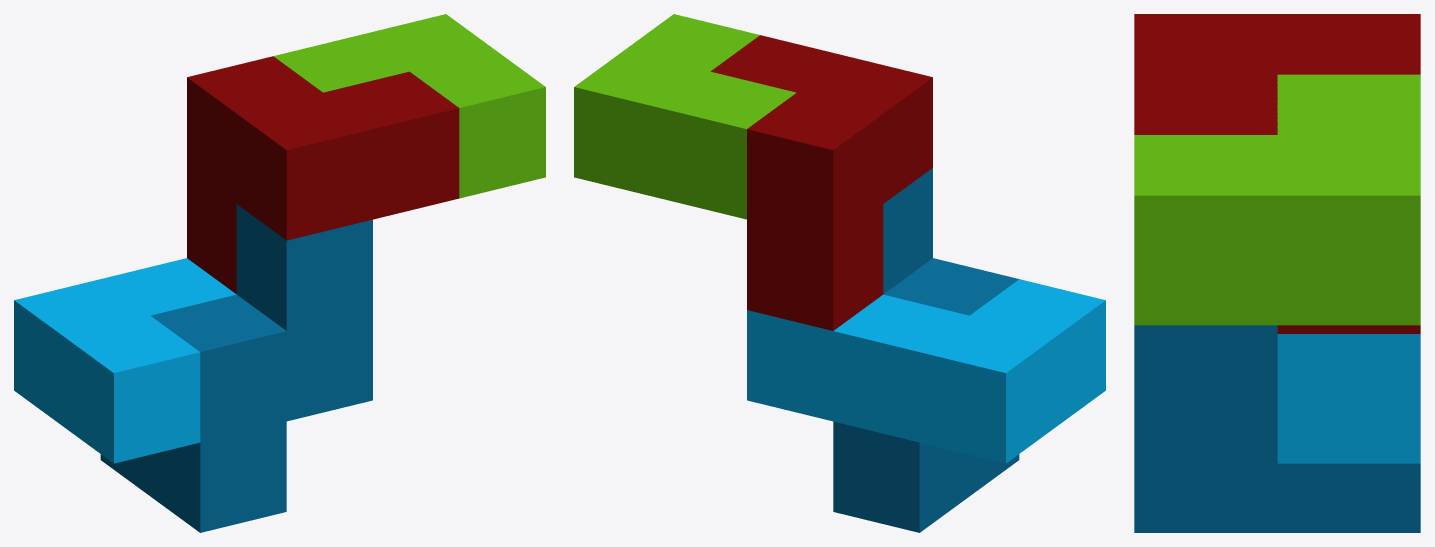
3 views of the same model, side by side, from view 1: azimuth 30°, elevation 25°; view 2: azimuth 150°, elevation 25°; view 3: azimuth 270°, elevation 25° (orthographic). The views are drawn at different scales.
Visible parts, largest first — view 1: mergedBlocks(Clone); view 2: mergedBlocks(Clone); view 3: mergedBlocks(Clone).
Part boxes in pixels (box(x1,y1,x2,y2)): mergedBlocks(Clone): box(14, 14, 545, 532); mergedBlocks(Clone): box(574, 14, 1105, 532); mergedBlocks(Clone): box(1134, 14, 1420, 532).
Size of the model in its own units: 5 by 4 by 2.
Materials: 4 (4 with a texture image).
